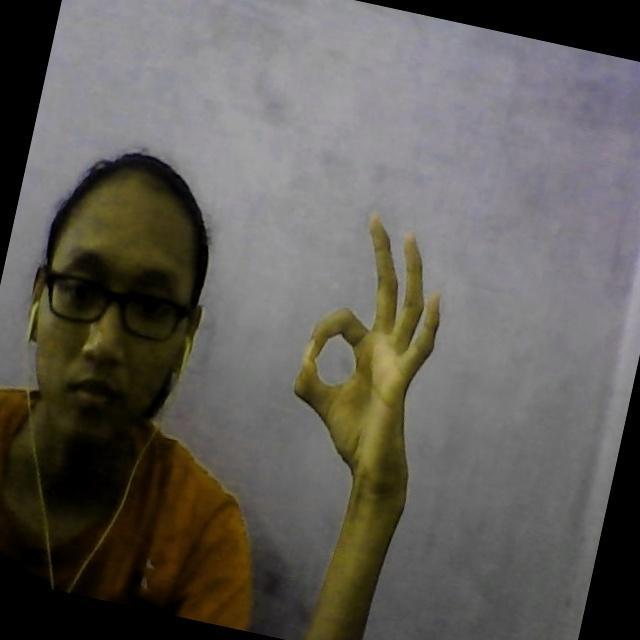O: (292, 211, 446, 447)
